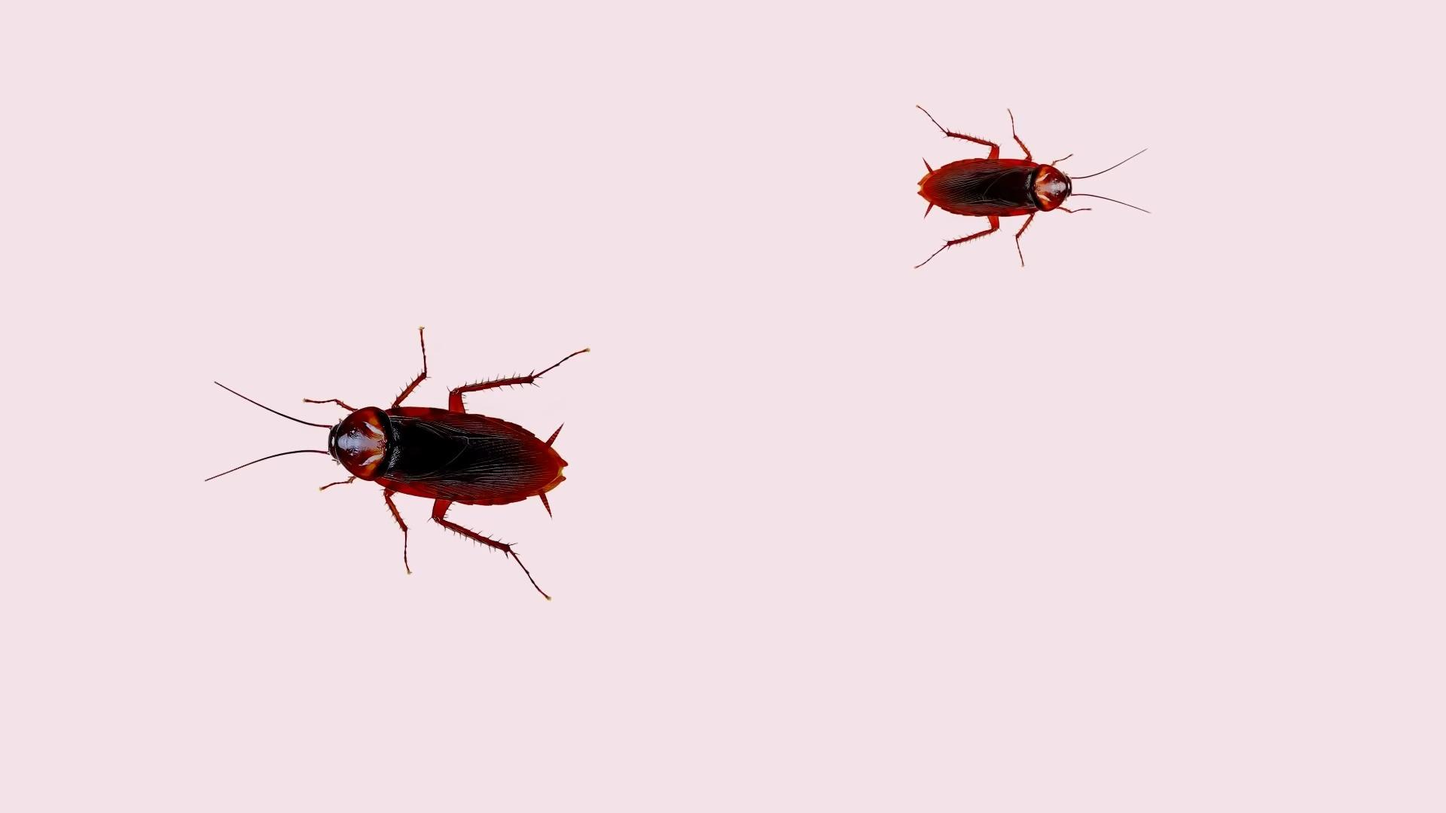cockroach: (179, 317, 616, 603), (895, 91, 1155, 295)
